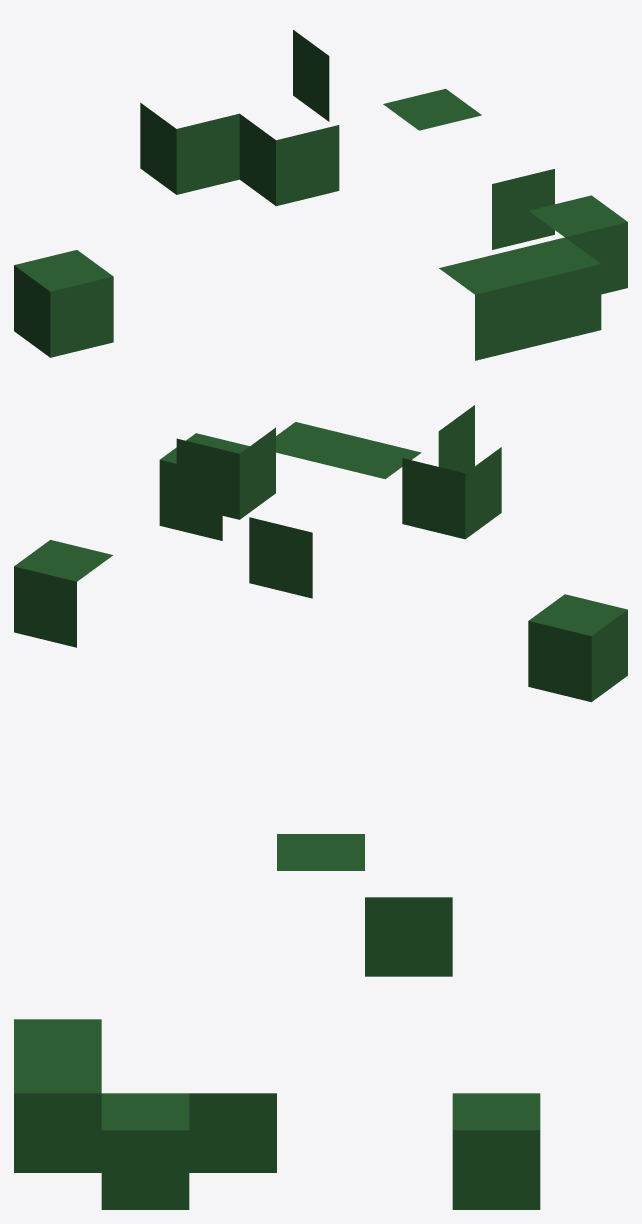
File: tree-pine-0p9-28602f.gltf
The picture shows the model from 3 angles, top to bottom: view 1: azimuth 30°, elevation 25°; view 2: azimuth 150°, elevation 25°; view 3: azimuth 270°, elevation 25°; orthographic projection. The views are drawn at different scales.
Parts seen in each view (by area): view 1: tree-pine-0p9-28602f; view 2: tree-pine-0p9-28602f; view 3: tree-pine-0p9-28602f.
Part boxes in pixels (left/top/right/bottom): tree-pine-0p9-28602f: left=14, top=30, right=627, bottom=360; tree-pine-0p9-28602f: left=14, top=405, right=627, bottom=702; tree-pine-0p9-28602f: left=14, top=834, right=540, bottom=1209.
Bounding box in the file's own units: 8 × 3 × 7.
